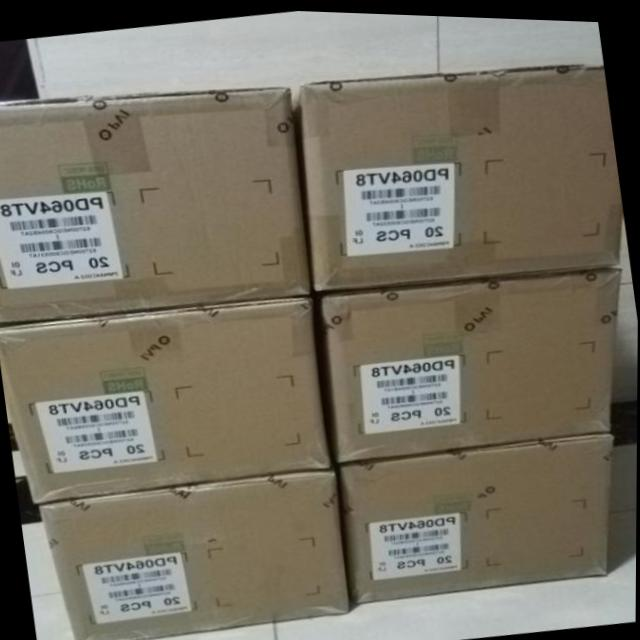box: (0, 83, 315, 324), (289, 63, 623, 290), (0, 290, 335, 504), (315, 263, 620, 461), (39, 467, 353, 640), (335, 428, 613, 600)
